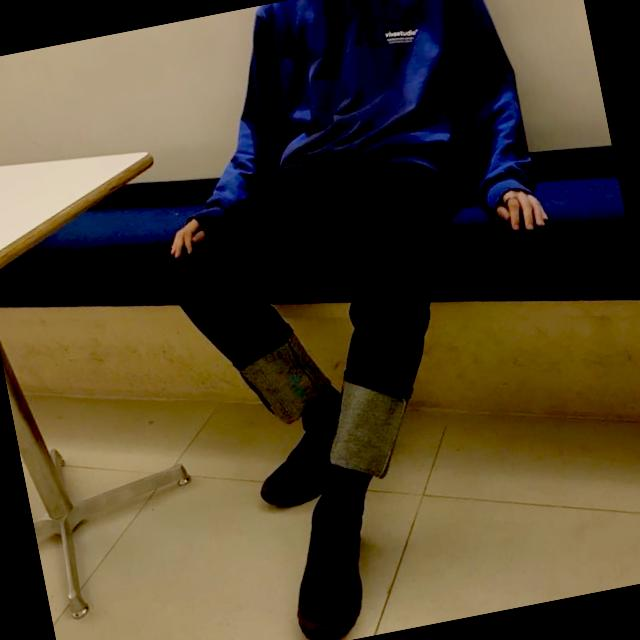denimpants: (135, 130, 530, 444)
mtm: (159, 0, 541, 264)
